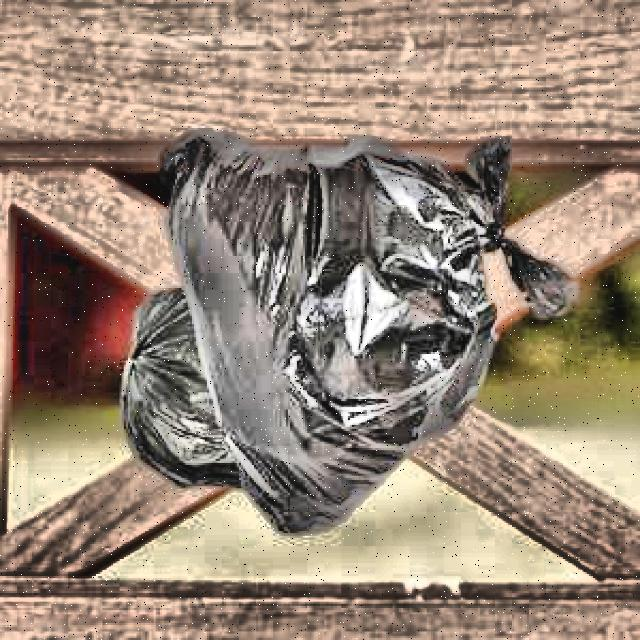Trashbag: (205, 125, 505, 547), (120, 283, 235, 488)
